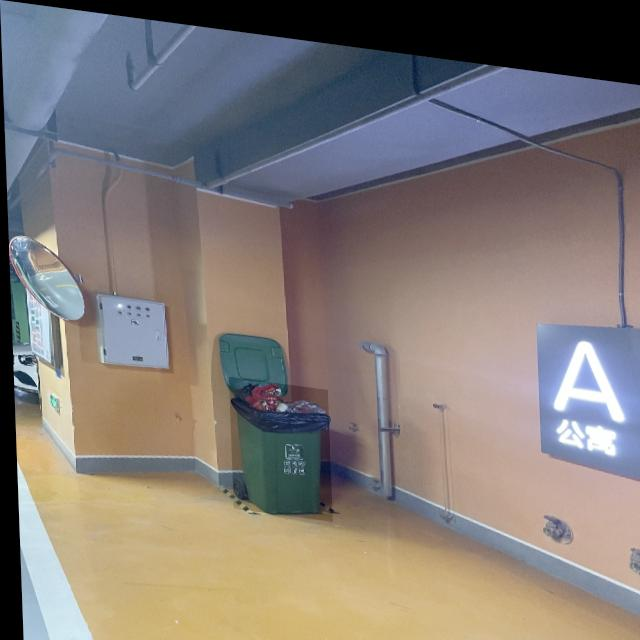overflow: (226, 371, 329, 513)
